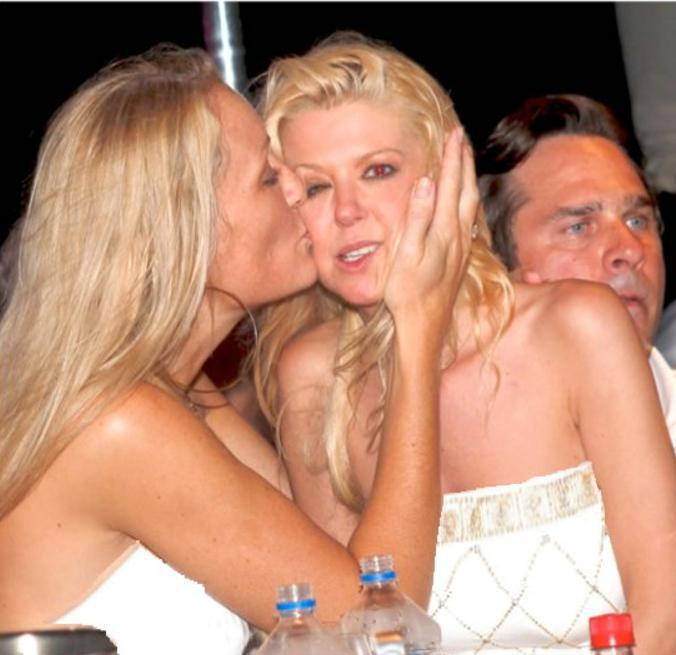Drunk: (279, 99, 439, 301), (518, 136, 664, 340)
